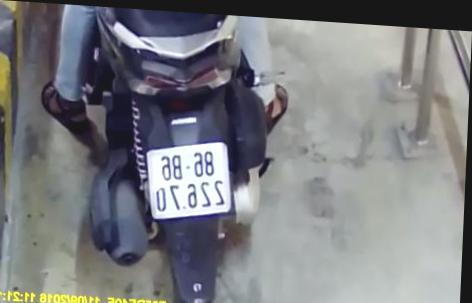License_Plate: (141, 134, 239, 232)
